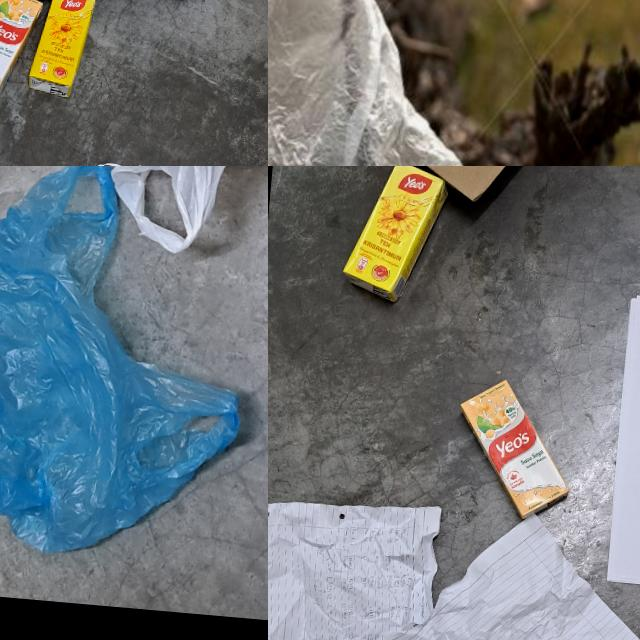caixinha: (447, 376, 578, 520), (343, 166, 451, 307), (31, 0, 95, 95), (0, 0, 43, 99)
papel: (369, 500, 640, 640), (268, 492, 444, 640), (594, 290, 640, 640)
papelão: (0, 0, 266, 48), (371, 166, 527, 208)
sacola plástica: (0, 166, 263, 569), (268, 0, 526, 166), (102, 166, 268, 269)
